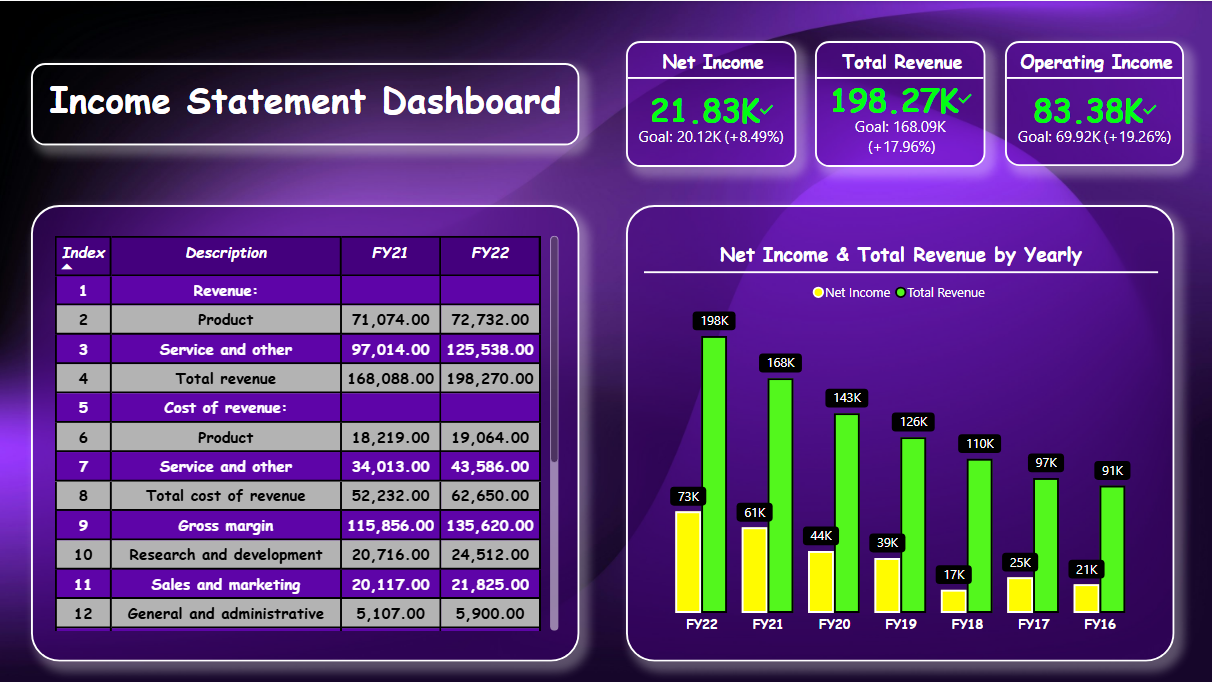

What the dashboard file says about the page in this screenshot:
{"tool":"powerbi","page":{"name":"Page 1","canvas":[1280,720],"ordinal":0},"visuals":[{"type":"shape","box":[662.2,215.5,579.4,482.2],"z":0},{"type":"shape","box":[34.2,215.5,579.4,482.2],"z":1000},{"type":"tableEx","fields":{"Values":["Yearly Income Statements.Index","Yearly Income Statements.Description","Yearly Income Statements.FY21","Yearly Income Statements.FY22"]},"box":[53,243.2,543,427.4],"z":2000},{"type":"kpi","title":"Operating Income","fields":{"Indicator":["Sum(Operating Income.FY22)"],"TrendLine":["Operating Income.Description"],"Goal":["Sum(Operating Income.FY21)"]},"box":[1061.8,42.2,189.1,132.2],"z":3000},{"type":"kpi","title":"Net Income","fields":{"Indicator":["Sum(Net Income.FY22)"],"Goal":["Sum(Net Income.FY21)"],"TrendLine":["Net Income.Description"]},"box":[662.2,42,180,132.7],"z":4000},{"type":"kpi","title":"Total Revenue","fields":{"Indicator":["Sum(Total Revenue.FY22)"],"TrendLine":["Total Revenue.Description"],"Goal":["Sum(Total Revenue.FY21)"]},"box":[861.9,42,180,132.7],"z":5000},{"type":"clusteredColumnChart","title":"Net Income & Total Revenue by Yearly","fields":{"Category":["Table.Description"],"Y":["Sum(Table.Net income)","Sum(Table.      Total revenue)"]},"box":[680.6,252.3,542.6,427],"z":6000},{"type":"textbox","box":[34.2,65.7,579.4,86.7],"z":7000}]}

Visuals, with their boxes in screenshot pixels (x1, y1, x2, y2), scaled from the page's 1280x720 canvas onto the 1212x682 screenshot:
shape: [627, 204, 1176, 661]
shape: [32, 204, 581, 661]
tableEx - Yearly Income Statements.Index x Yearly Income Statements.Description: [50, 230, 564, 635]
"Operating Income" kpi: [1005, 40, 1184, 165]
"Net Income" kpi: [627, 40, 797, 165]
"Total Revenue" kpi: [816, 40, 987, 165]
"Net Income & Total Revenue by Yearly" clusteredColumnChart: [644, 239, 1158, 643]
textbox: [32, 62, 581, 144]
